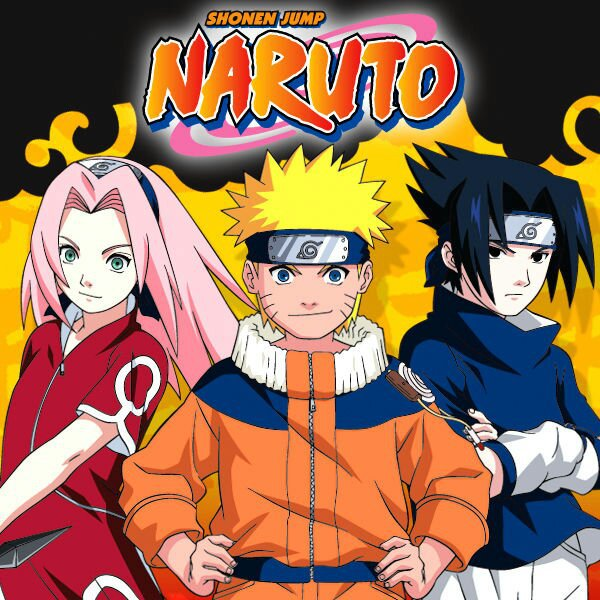naruto: (239, 227, 375, 342)
sakura: (45, 157, 162, 317)
sasuke: (438, 205, 560, 319)
